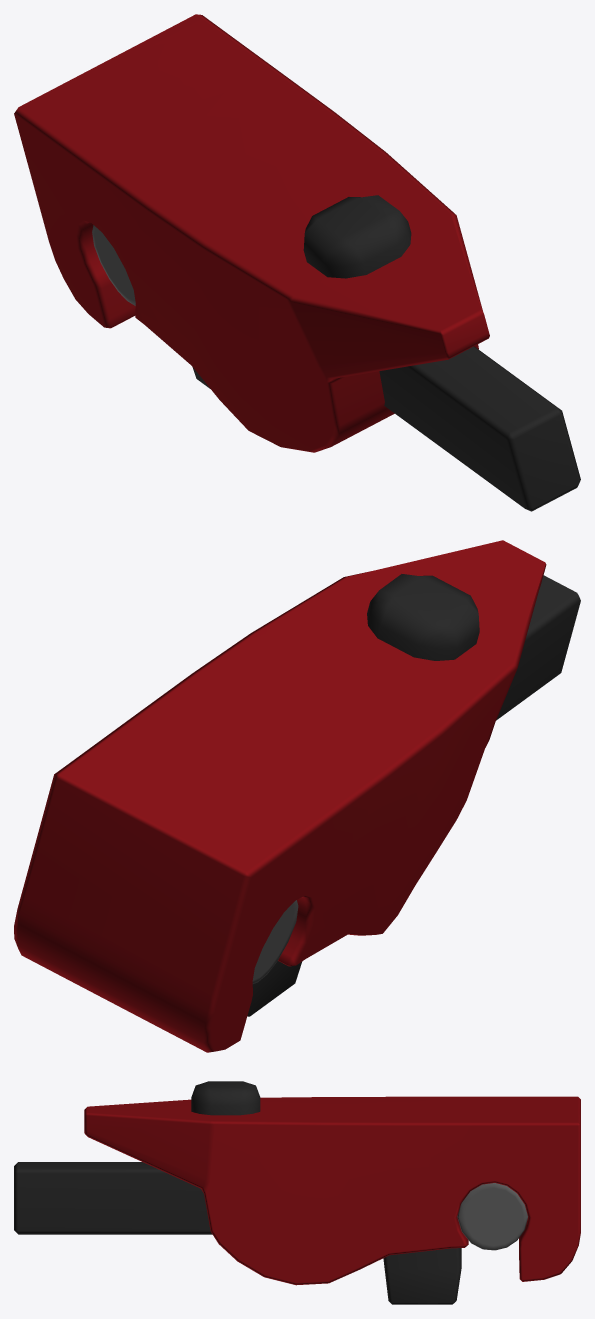
The model's file is Ship_enemy_10_Weapon_R.fbx.
3 renders of one model, top to bottom at view 1: azimuth 30°, elevation 25°; view 2: azimuth 150°, elevation 25°; view 3: azimuth 270°, elevation 25°, orthographic. The views are drawn at different scales.
Parts seen in each view (by area): view 1: Ship_enemy_10_Weapon_R; view 2: Ship_enemy_10_Weapon_R; view 3: Ship_enemy_10_Weapon_R.
Part boxes in pixels (left/top/right/bottom): Ship_enemy_10_Weapon_R: left=14, top=14, right=580, bottom=511; Ship_enemy_10_Weapon_R: left=14, top=540, right=580, bottom=1052; Ship_enemy_10_Weapon_R: left=14, top=1081, right=580, bottom=1304.
Size of the model in its own units: 70.66 by 82.11 by 210.
